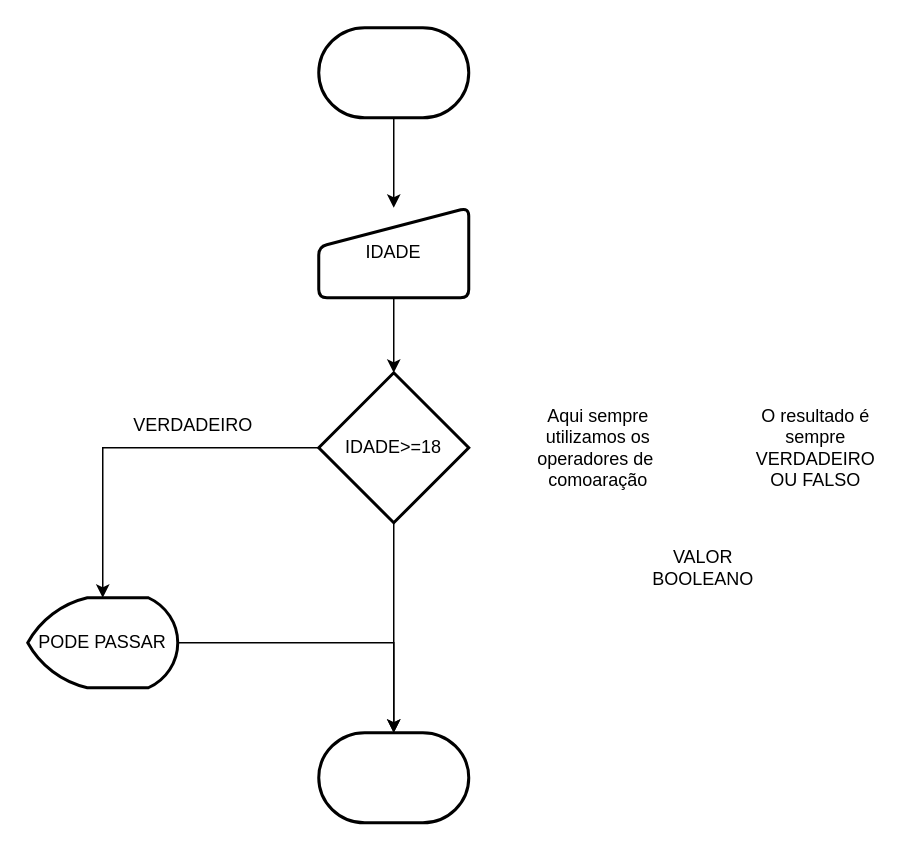
Some shapes in this 915 by 849 pixel diagram are drawn without their labels. Each missing label, with the centre of its shape:
"FIM" goes at point 393,777.
"INICIO" goes at point 393,72.
